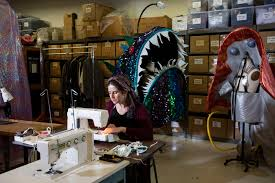unmasked: (106, 75, 130, 106)
